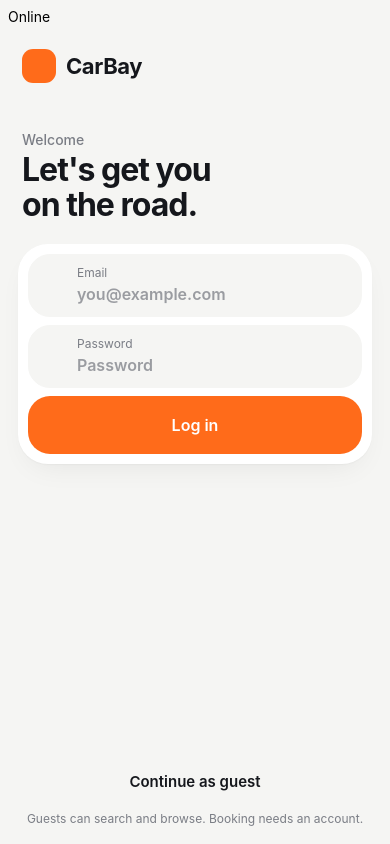
Test: login screen › stays put and shows an error when the credentials are refused
Type "admin@testuser.com" into the field with placeholder "you@example.com" at x=211, y=294, box x1=77 y1=282 x2=345 y2=306
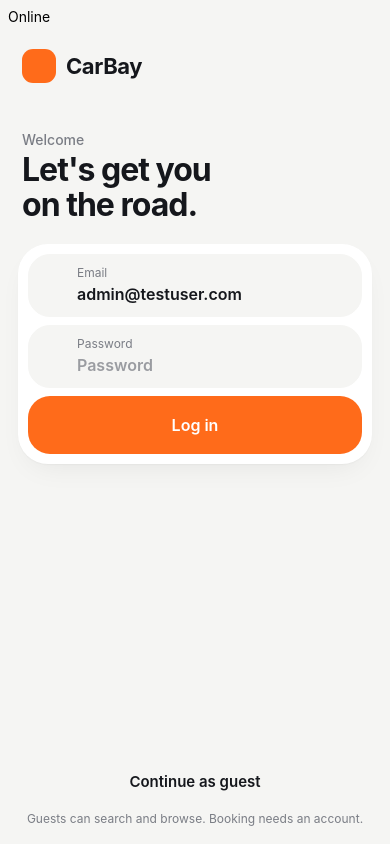
Type "12345678" into the password field with placeholder "Password" at x=211, y=365, box x1=77 y1=353 x2=345 y2=377
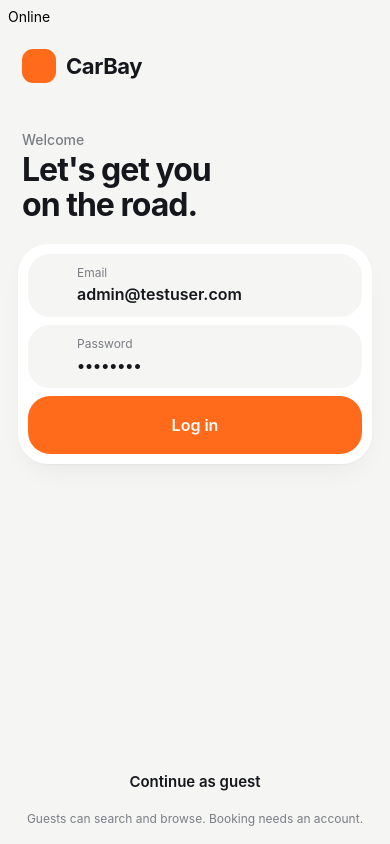
Click the button "Log in" at x=195, y=425, box x1=28 y1=396 x2=362 y2=454
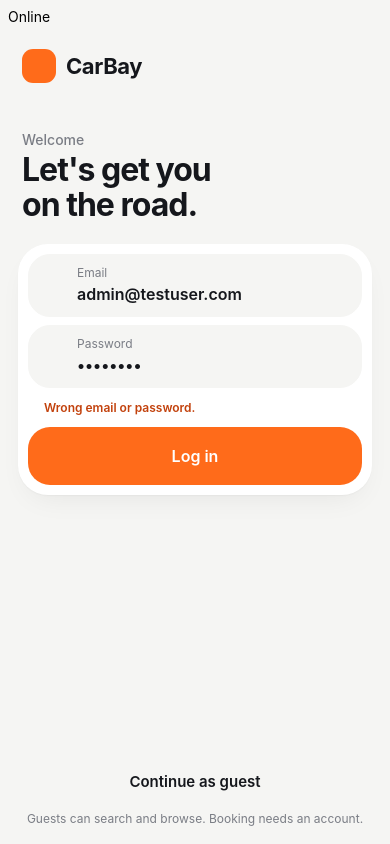
expect the text "Continue as guest" is shown: met, box x1=129 y1=772 x2=261 y2=790
expect the text "Wrong email or password." is shown: met, box x1=44 y1=400 x2=195 y2=415
